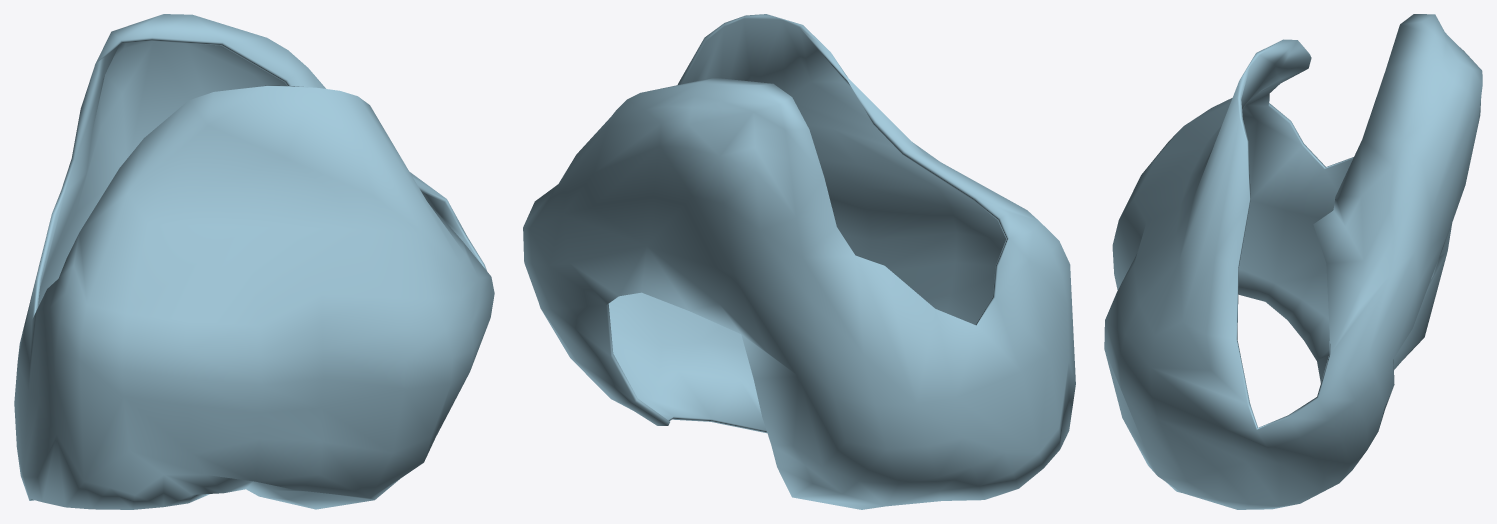
File: articulacoes-articular-capsule-of-elbow-joint-r.glb
The picture shows the model from 3 angles, left to right: view 1: azimuth 30°, elevation 25°; view 2: azimuth 150°, elevation 25°; view 3: azimuth 270°, elevation 25°; orthographic projection. The views are drawn at different scales.
Visible parts, largest first — view 1: Articular capsule of elbow joint.r; view 2: Articular capsule of elbow joint.r; view 3: Articular capsule of elbow joint.r.
Boxes of the visible parts, x1=… form: Articular capsule of elbow joint.r: x1=14, y1=14, x2=494, y2=509; Articular capsule of elbow joint.r: x1=523, y1=14, x2=1075, y2=509; Articular capsule of elbow joint.r: x1=1104, y1=14, x2=1482, y2=509.
Bounding box in the file's own units: 0.0611 × 0.0532 × 0.0423.
